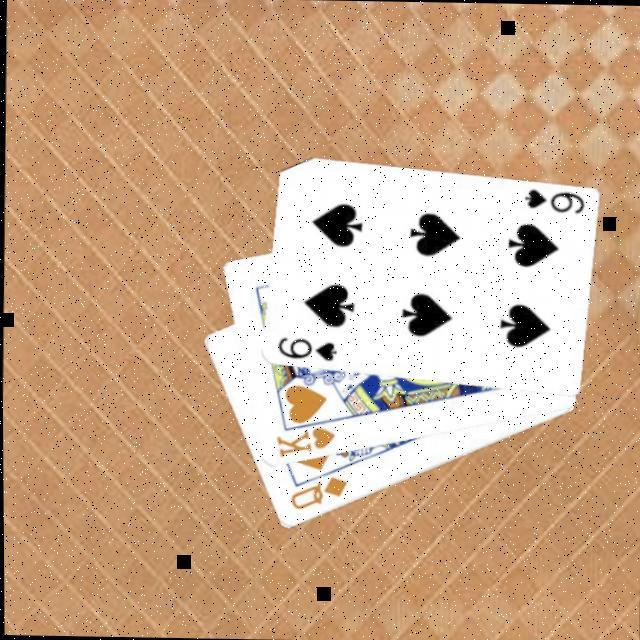6S: (520, 184, 587, 216), (273, 332, 340, 363)
KH: (272, 422, 338, 460)
QD: (286, 472, 350, 513)
